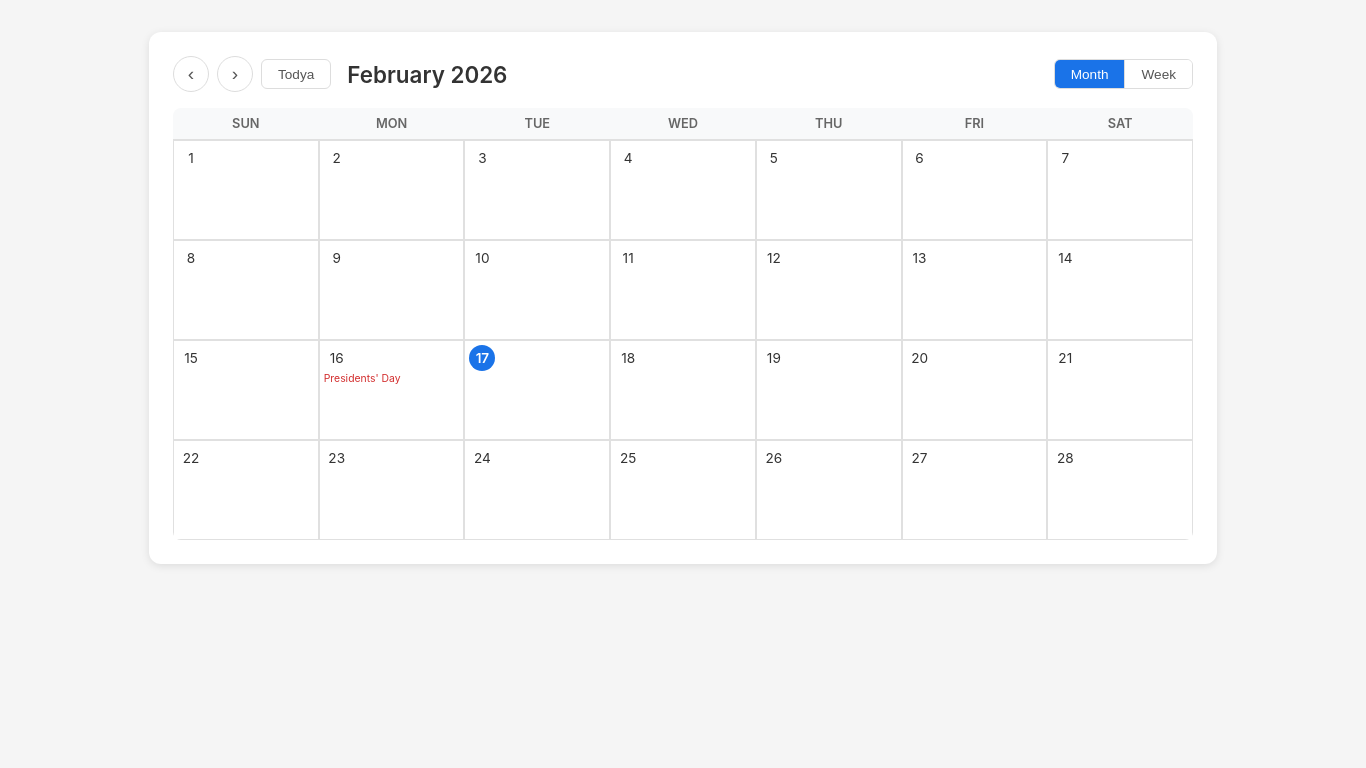
Test case: Calendar App › opens the create event modal when clicking a day cell
# Click on a day cell (find a day number in the grid)
Click the element with class "month-day-cell" showing "11": click(683, 290) [610,240,756,340]
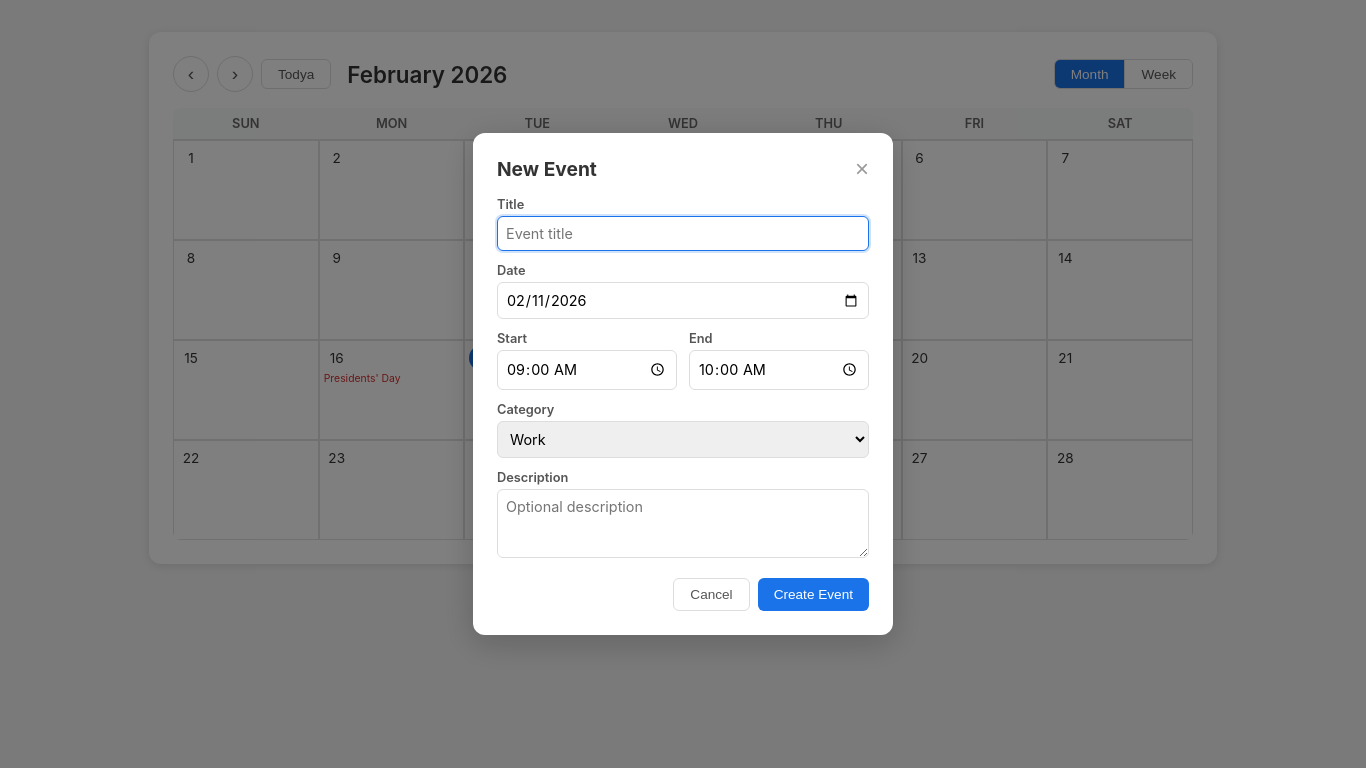
Expected: the heading "New Event" is shown, [497,157,597,181]
Expected: the field labelled "Title" is shown, [497,216,869,251]
